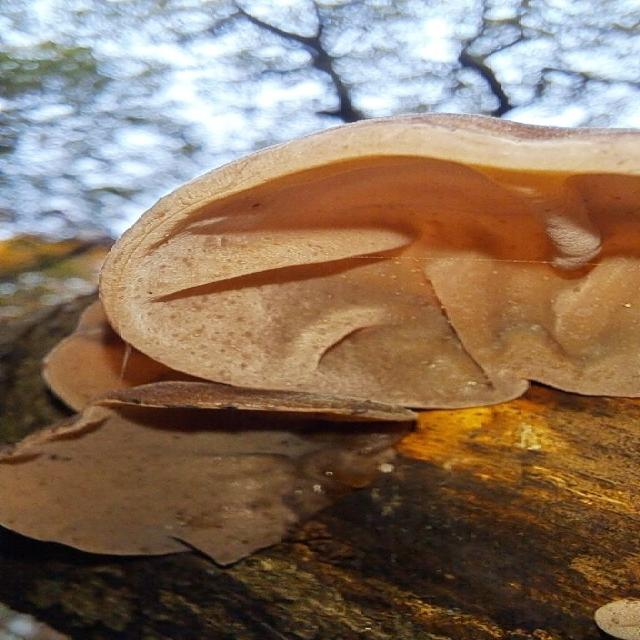Matang: (82, 112, 639, 405)
